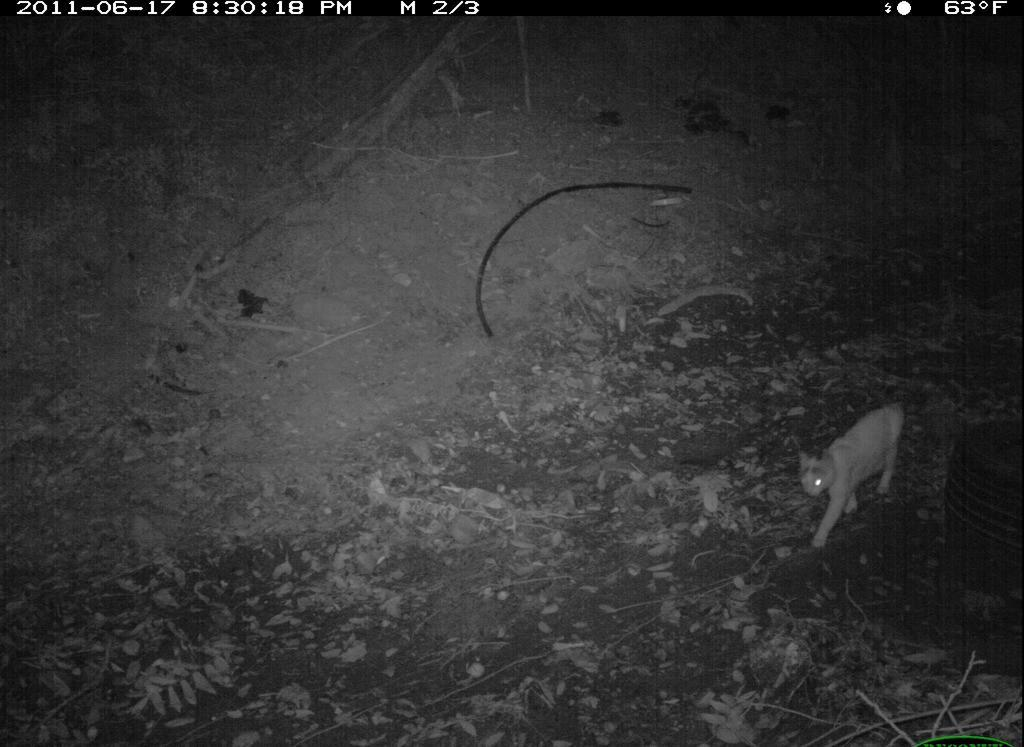cat: (795, 395, 923, 552)
